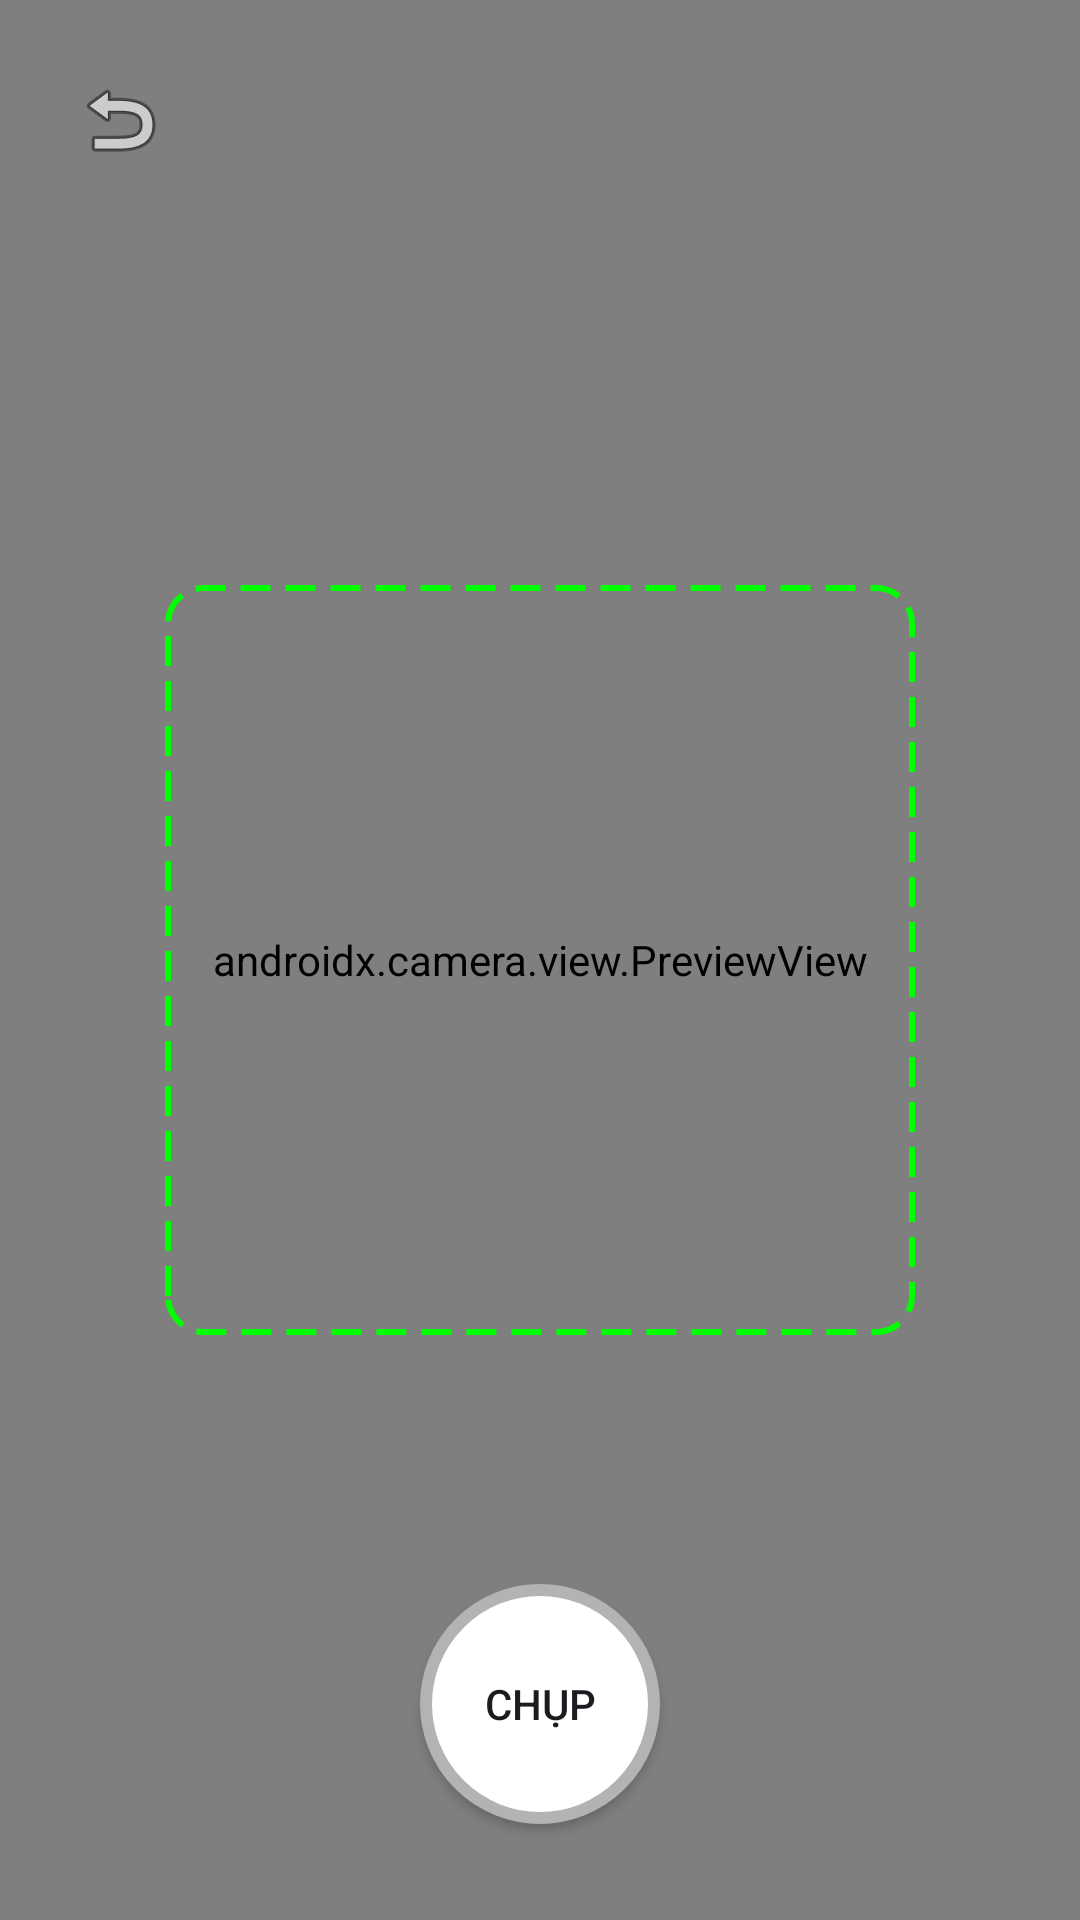

Where icons sit on this 1080w x 1920h app screen, as (x1, y1, x2, y2):
revert: (87, 90, 156, 152)
